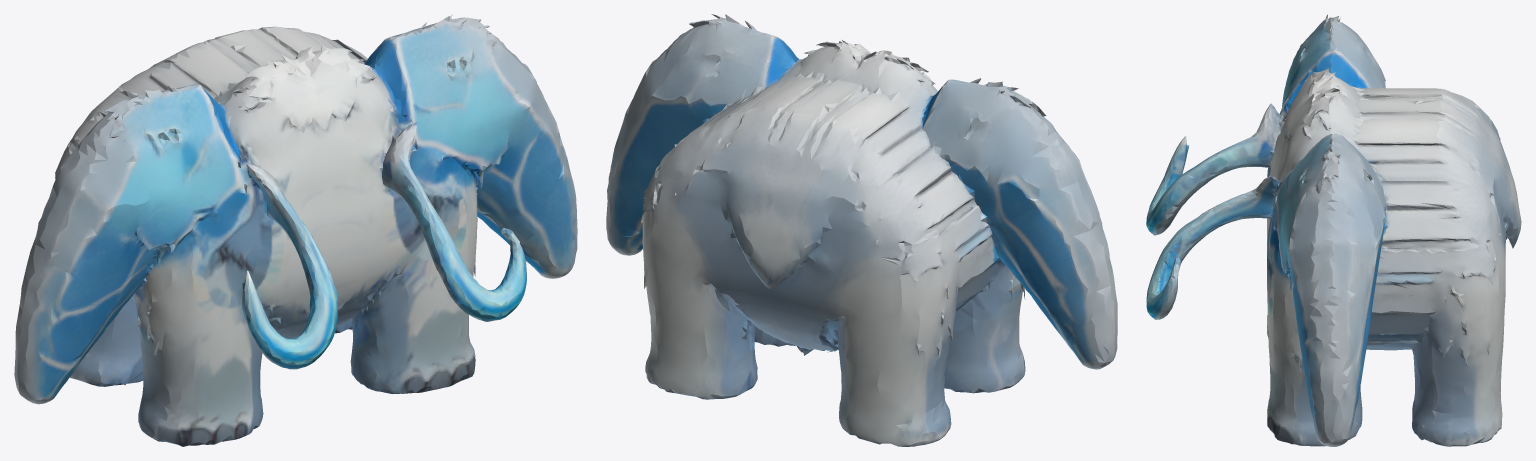
Rendered from Boss_Rimefather.glb.
3 views of the same model, side by side, from view 1: azimuth 30°, elevation 25°; view 2: azimuth 150°, elevation 25°; view 3: azimuth 270°, elevation 25° (orthographic). The views are drawn at different scales.
Parts seen in each view (by area): view 1: Boss_Rimefather; view 2: Boss_Rimefather; view 3: Boss_Rimefather.
Part boxes in pixels (x1=…): Boss_Rimefather: x1=14, y1=14, x2=577, y2=446; Boss_Rimefather: x1=606, y1=14, x2=1117, y2=446; Boss_Rimefather: x1=1146, y1=14, x2=1521, y2=446.
Bounding box in the file's own units: 1.38 × 0.8 × 0.9157.
1 material, 1 textured.
